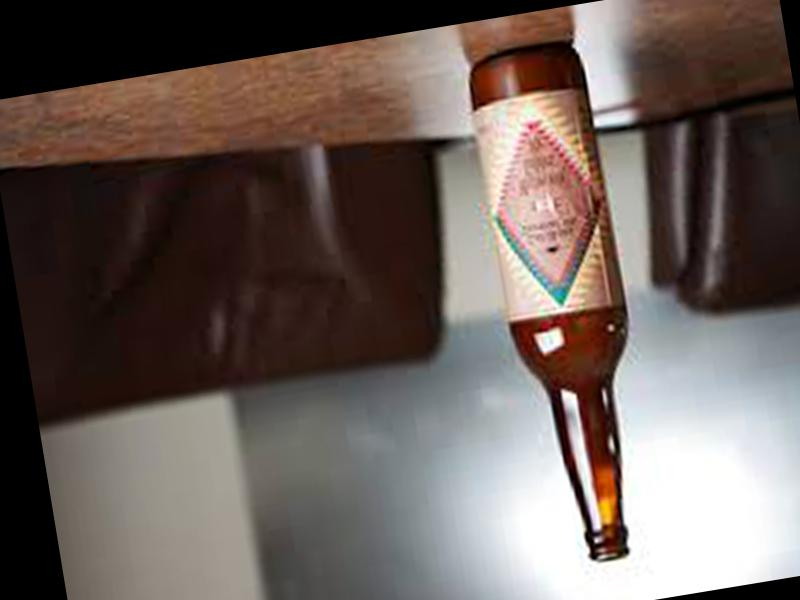Beer: (468, 40, 663, 566)
